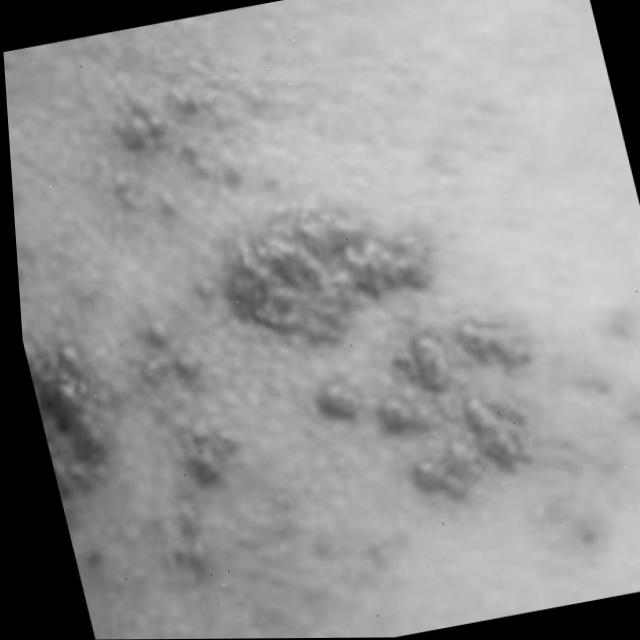Shingles: (4, 50, 640, 640)
